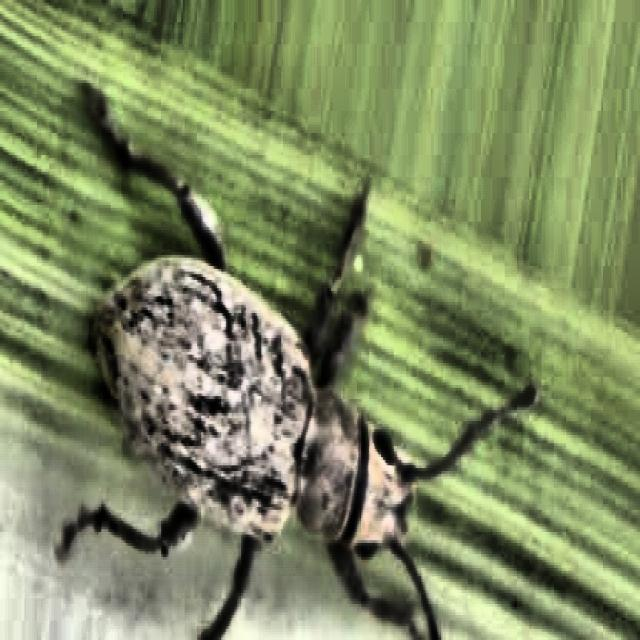Stink bug: (66, 211, 523, 628)
